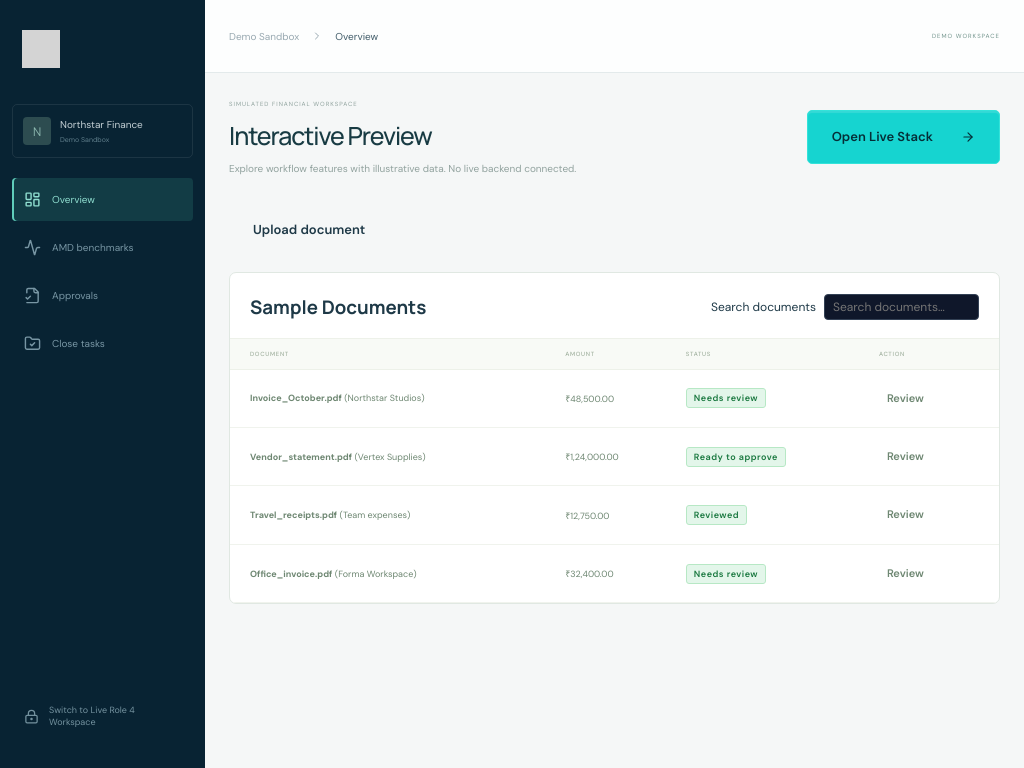
it: Accessibility Standards and Controls › Dialog elements use proper role, aria-modal, and focus trap semantics
Click the button with aria-label "Review Invoice_October.pdf" at point(905, 398), box top-left (879, 387), bottom-right (932, 410)
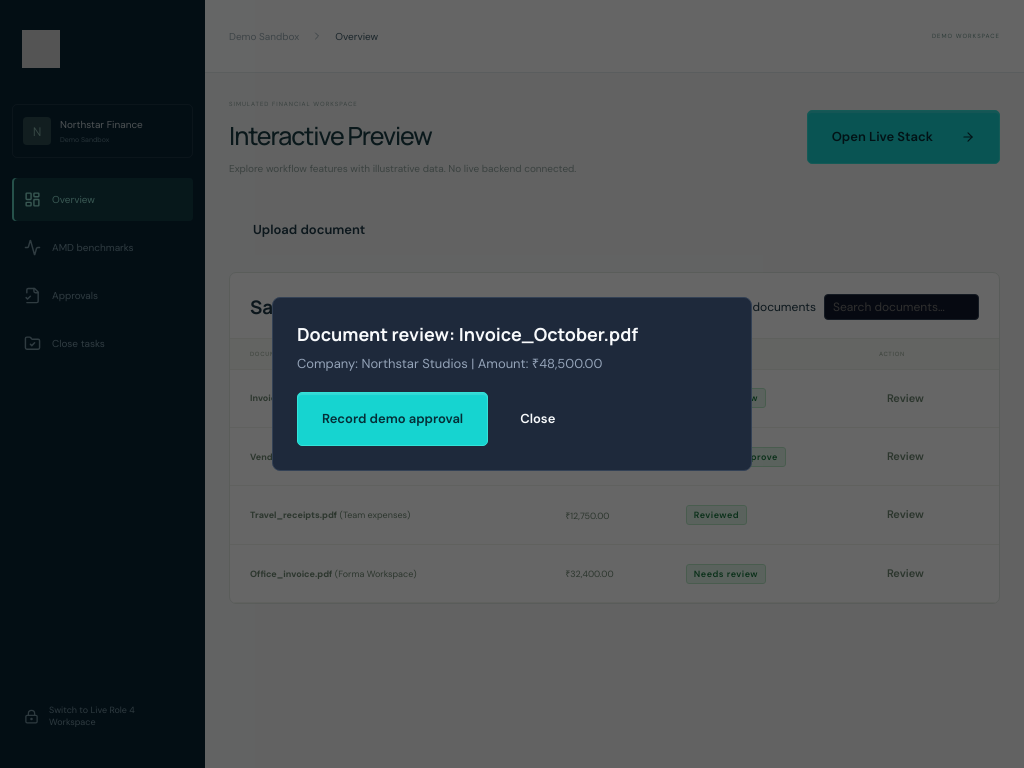
Note: Escape key closes modal and returns focus
Press Escape
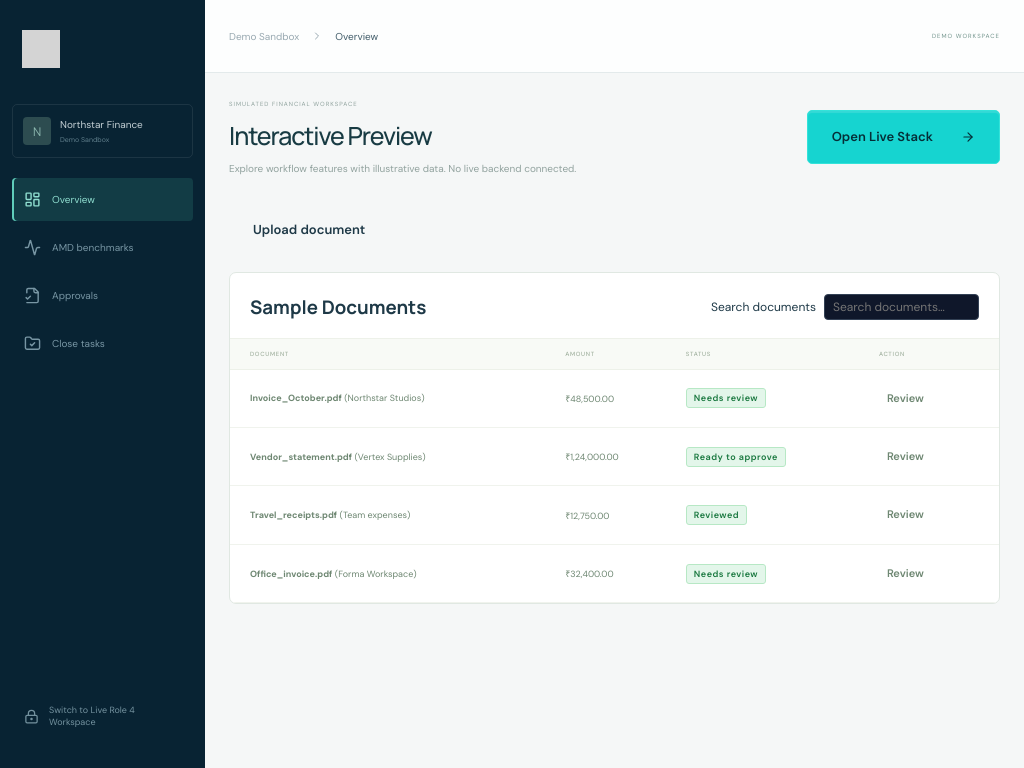
Check: the dialog is gone
